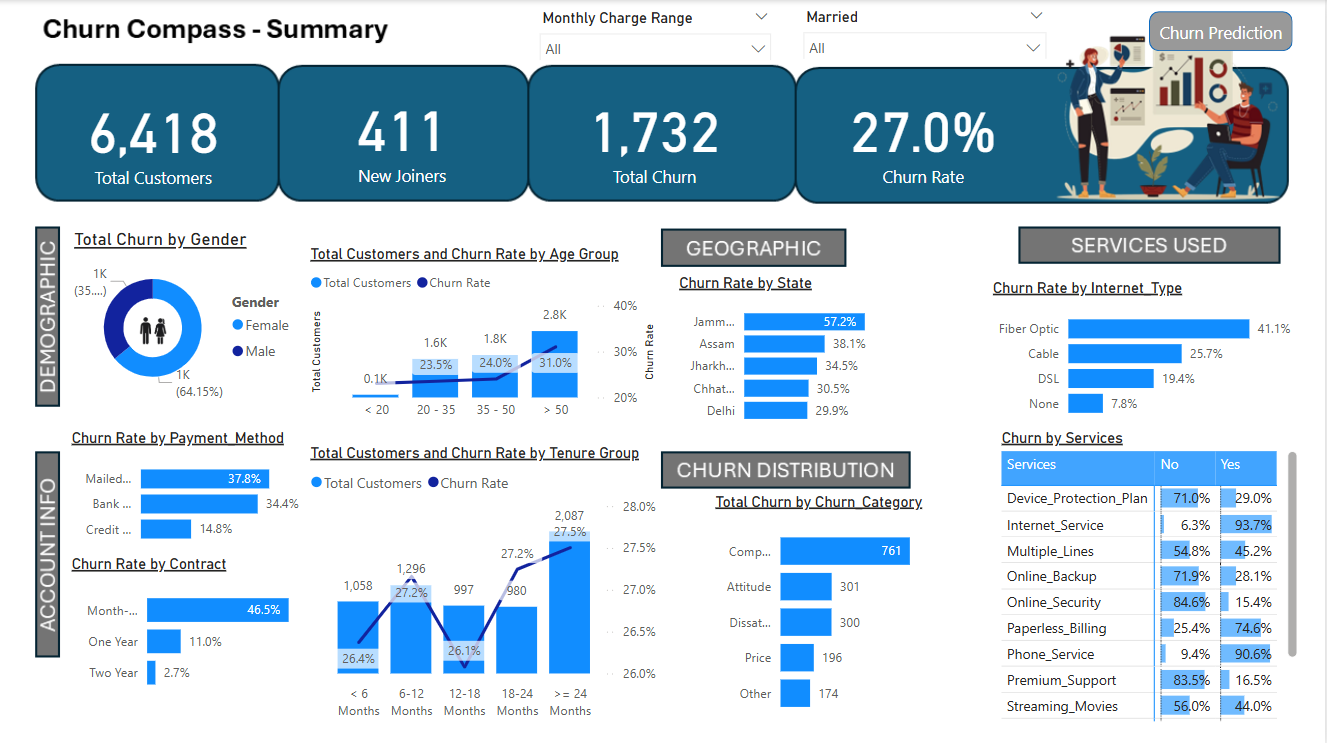

This screenshot's page, from the dashboard's own definition file:
{"tool":"powerbi","page":{"name":"Summary","canvas":[1280,720],"ordinal":0},"visuals":[{"type":"card","fields":{"Values":["tbl_Measures.Total Customers"]},"box":[44.6,80.8,208.7,103.8],"z":0},{"type":"card","fields":{"Values":["tbl_Measures.New Joiners"]},"box":[284.7,78.4,208.7,105],"z":1000},{"type":"card","fields":{"Values":["tbl_Measures.Total Churn"]},"box":[528.4,79.6,208.7,105],"z":2000},{"type":"card","fields":{"Values":["tbl_Measures.Churn Rate"]},"box":[787.8,79.6,208.7,105],"z":3000},{"type":"donutChart","fields":{"Category":["prod_Churn.Gender"],"Y":["tbl_Measures.Total Churn"]},"box":[67.6,220.8,228,172.5],"z":4000},{"type":"clusteredBarChart","fields":{"Category":["prod_Churn.Payment_Method"],"Y":["tbl_Measures.Churn Rate"]},"box":[65.1,413.8,234,121.9],"z":5000},{"type":"barChart","fields":{"Category":["prod_Churn.Contract"],"Y":["tbl_Measures.Churn Rate"]},"box":[65.1,535.7,259.4,143.6],"z":6000},{"type":"lineStackedColumnComboChart","fields":{"Category":["mapping_AgeGrp.Age Group"],"Y":["tbl_Measures.Total Customers"],"Y2":["tbl_Measures.Churn Rate"]},"box":[295.6,236.5,343.8,177.3],"z":7000},{"type":"lineStackedColumnComboChart","fields":{"Category":["mapping_TenureGrp.Tenure Group"],"Y":["tbl_Measures.Total Customers"],"Y2":["tbl_Measures.Churn Rate"]},"box":[295.6,428.3,343.8,272.7],"z":8000},{"type":"clusteredBarChart","fields":{"Category":["prod_Churn.State"],"Y":["tbl_Measures.Churn Rate"]},"box":[651.5,264.2,222,154.4],"z":9000},{"type":"clusteredBarChart","fields":{"Category":["prod_Churn.Churn_Category"],"Y":["tbl_Measures.Total Churn"]},"box":[686.5,475.3,222,226.8],"z":10000},{"type":"clusteredBarChart","fields":{"Category":["prod_Churn.Internet_Type"],"Y":["tbl_Measures.Churn Rate"]},"box":[953.8,268.8,303.8,145],"z":11000},{"type":"pivotTable","title":"Churn by Services","fields":{"Rows":["prod_Services.Services"],"Columns":["prod_Services.Status"],"Values":["Sum(prod_Services.Churn Status)"]},"box":[962.5,413.8,295,287.5],"z":12000},{"type":"slicer","fields":{"Values":["prod_Churn.Monthly Charge Status"]},"box":[511.5,3.6,243.7,54.3],"z":13000},{"type":"image","box":[113.4,296.8,71.2,44.6],"z":14000},{"type":"slicer","fields":{"Values":["prod_Churn.Married"]},"box":[766.1,2.4,254.6,54.3],"z":15000},{"type":"shape","box":[1109.9,10.9,138.7,38.6],"z":16000}]}

Visuals, with their boxes in screenshot pixels (x1, y1, x2, y2), scaled from the page's 1280x720 canvas onto the 1327x743 screenshot:
card - tbl_Measures.Total Customers: {"left": 46, "top": 83, "right": 263, "bottom": 190}
card - tbl_Measures.New Joiners: {"left": 295, "top": 81, "right": 512, "bottom": 189}
card - tbl_Measures.Total Churn: {"left": 548, "top": 82, "right": 764, "bottom": 190}
card - tbl_Measures.Churn Rate: {"left": 817, "top": 82, "right": 1033, "bottom": 190}
donutChart - prod_Churn.Gender x tbl_Measures.Total Churn: {"left": 70, "top": 228, "right": 306, "bottom": 406}
clusteredBarChart - prod_Churn.Payment_Method x tbl_Measures.Churn Rate: {"left": 67, "top": 427, "right": 310, "bottom": 553}
barChart - prod_Churn.Contract x tbl_Measures.Churn Rate: {"left": 67, "top": 553, "right": 336, "bottom": 701}
lineStackedColumnComboChart - mapping_AgeGrp.Age Group x tbl_Measures.Total Customers: {"left": 306, "top": 244, "right": 663, "bottom": 427}
lineStackedColumnComboChart - mapping_TenureGrp.Tenure Group x tbl_Measures.Total Customers: {"left": 306, "top": 442, "right": 663, "bottom": 723}
clusteredBarChart - prod_Churn.State x tbl_Measures.Churn Rate: {"left": 675, "top": 273, "right": 906, "bottom": 432}
clusteredBarChart - prod_Churn.Churn_Category x tbl_Measures.Total Churn: {"left": 712, "top": 490, "right": 942, "bottom": 725}
clusteredBarChart - prod_Churn.Internet_Type x tbl_Measures.Churn Rate: {"left": 989, "top": 277, "right": 1304, "bottom": 427}
"Churn by Services" pivotTable: {"left": 998, "top": 427, "right": 1304, "bottom": 724}
slicer - prod_Churn.Monthly Charge Status: {"left": 530, "top": 4, "right": 783, "bottom": 60}
image: {"left": 118, "top": 306, "right": 191, "bottom": 352}
slicer - prod_Churn.Married: {"left": 794, "top": 2, "right": 1058, "bottom": 59}
shape: {"left": 1151, "top": 11, "right": 1294, "bottom": 51}
